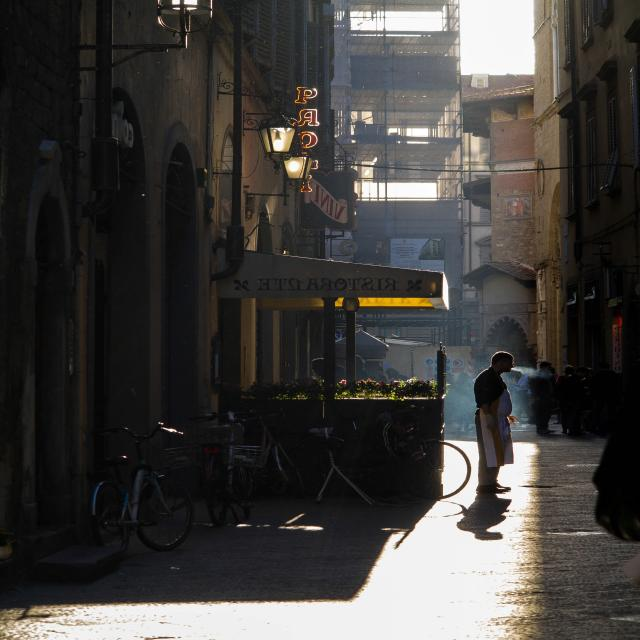adult: (472, 344, 519, 502)
